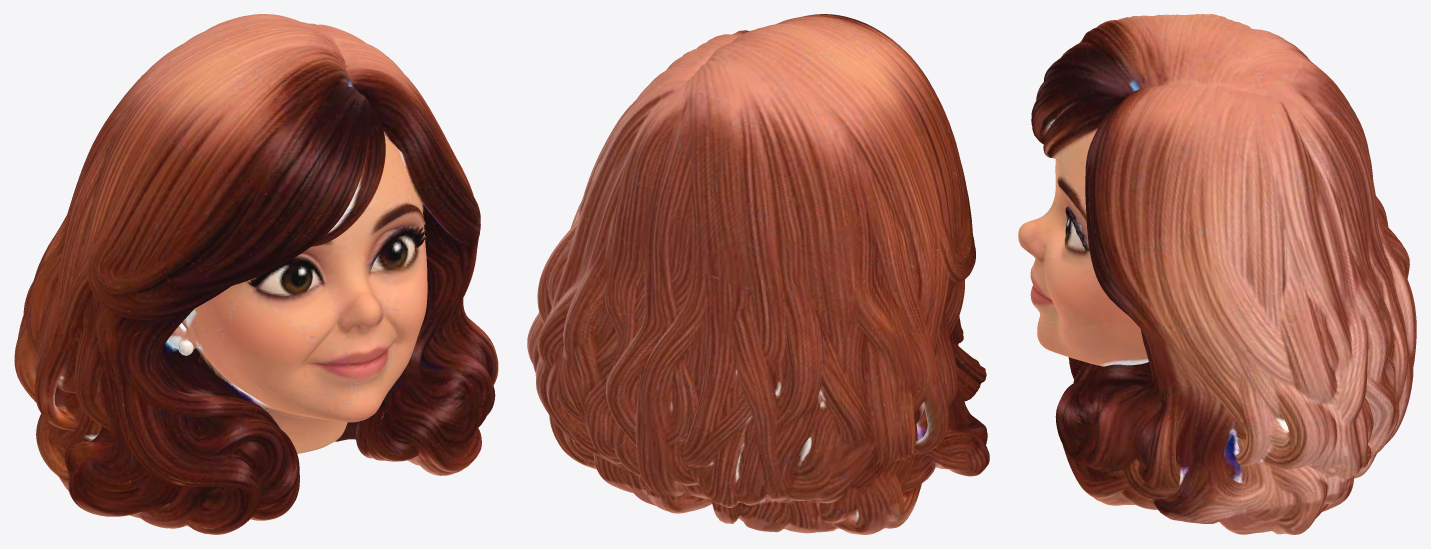
Rendered from planet-02.opt.glb.
3 views of the same model, side by side, from view 1: azimuth 30°, elevation 25°; view 2: azimuth 150°, elevation 25°; view 3: azimuth 270°, elevation 25° (orthographic). The views are drawn at different scales.
Size of the model in its own units: 1.8 by 1.9 by 1.55.
1 material, 1 textured.
